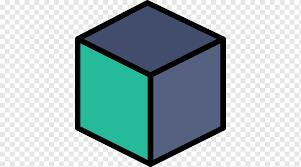cubos: (65, 0, 234, 167)
